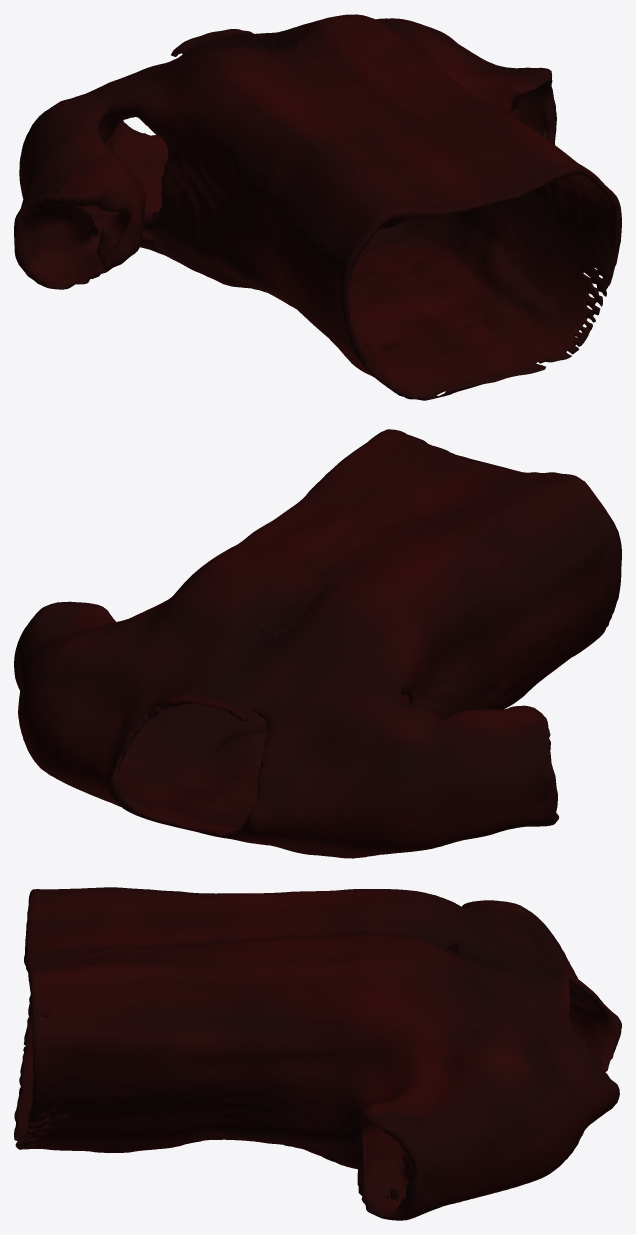
Rendered from Red_shirt.FBX.
The picture shows the model from 3 angles, top to bottom: view 1: azimuth 30°, elevation 25°; view 2: azimuth 150°, elevation 25°; view 3: azimuth 270°, elevation 25°; orthographic projection. The views are drawn at different scales.
Visible parts, largest first — view 1: plyFile; view 2: plyFile; view 3: plyFile.
Boxes of the visible parts, x1,y1,x2,y2 form: plyFile: (14,14,621,400); plyFile: (14,429,621,858); plyFile: (14,887,621,1220).
Size of the model in its own units: 197 by 75.55 by 197.
